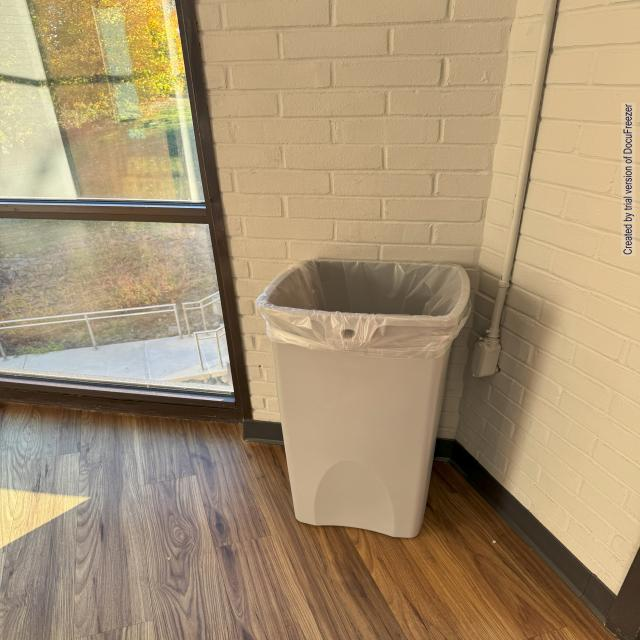Trash bin: (232, 228, 499, 555)
